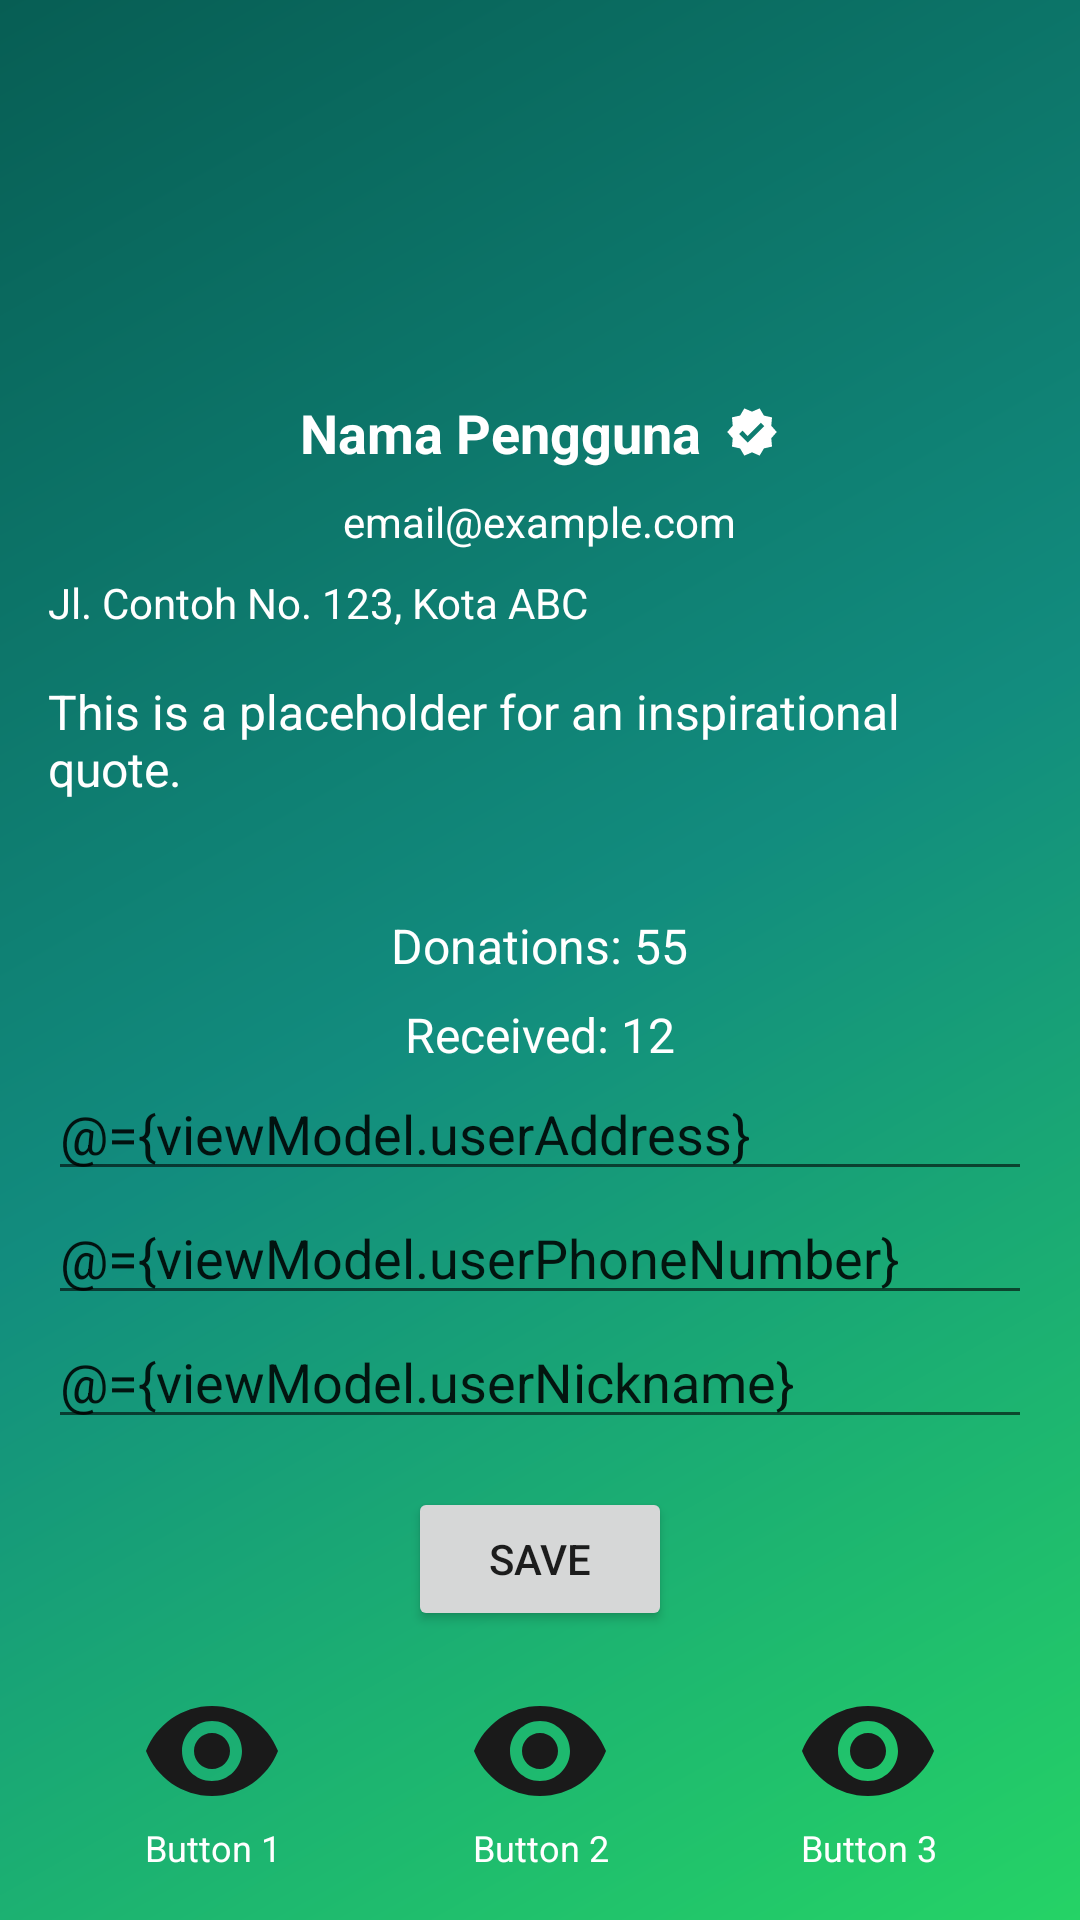

Named icons in this screenshot (1080px x 1920px) and their centers, (x,y):
verified: (752,432)
